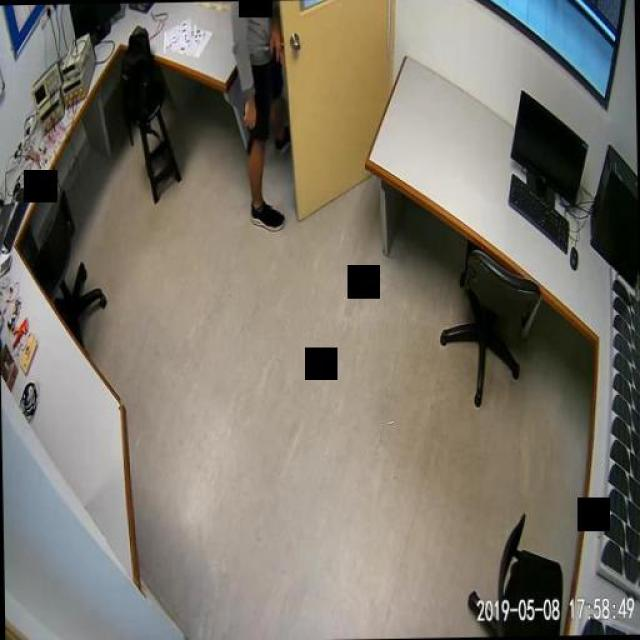gun: (241, 104, 259, 152)
